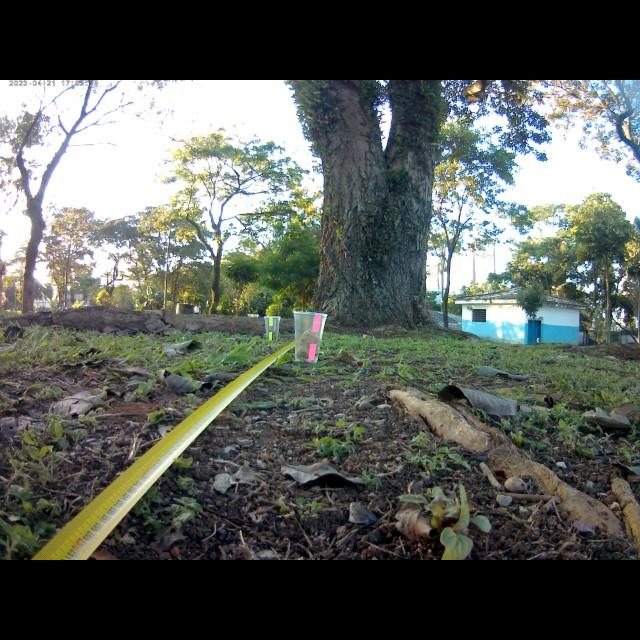arvore: (277, 81, 444, 338)
